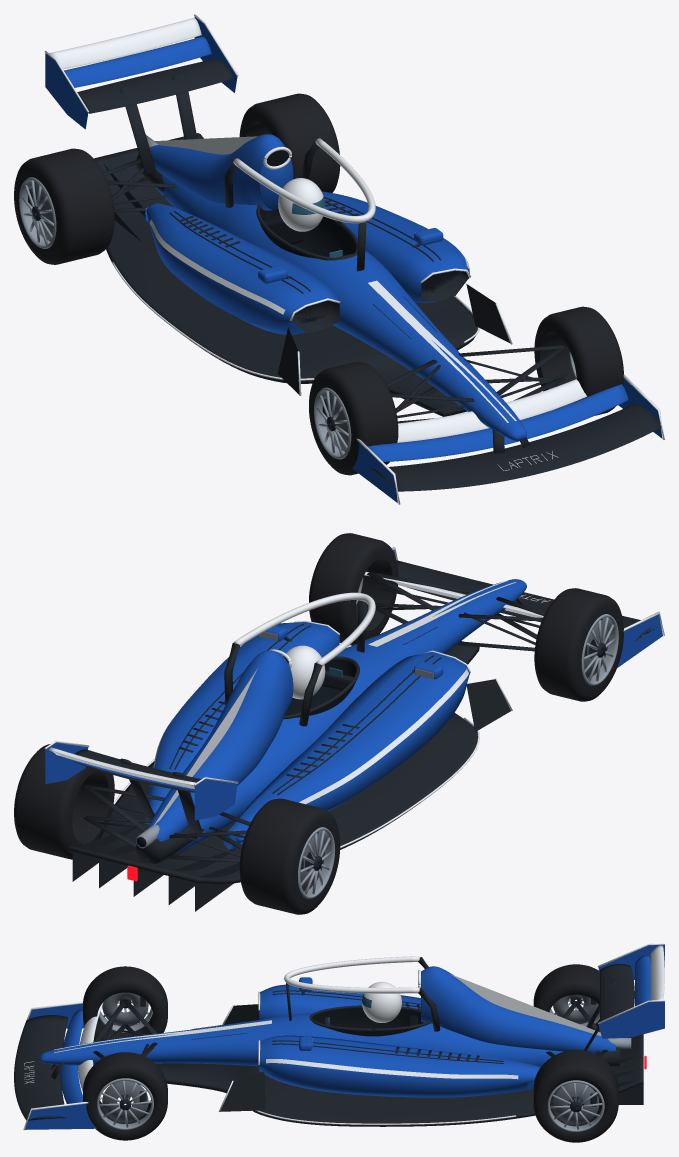
File: formula26.glb
3 renders of one model, top to bottom at view 1: azimuth 30°, elevation 25°; view 2: azimuth 150°, elevation 25°; view 3: azimuth 270°, elevation 25°, orthographic. The views are drawn at different scales.
Parts seen in each view (by area): view 1: FORMULA26_ROOT_F26_Paint_LOD0, FORMULA26_ROOT_F26_Carbon_LOD0, FORMULA26_ROOT_F26_Ice_LOD0, SPIN_RR_F26_Rubber_LOD0, SPIN_FL_F26_Rubber_LOD0, SPIN_FR_F26_Rubber_LOD0, SPIN_RL_F26_Rubber_LOD0, FORMULA26_ROOT_F26_Interior_LOD0, SPIN_FR_F26_Alloy_LOD0, SPIN_RR_F26_Alloy_LOD0; view 2: FORMULA26_ROOT_F26_Paint_LOD0, FORMULA26_ROOT_F26_Carbon_LOD0, FORMULA26_ROOT_F26_Ice_LOD0, SPIN_RR_F26_Rubber_LOD0, SPIN_RL_F26_Rubber_LOD0, SPIN_FR_F26_Rubber_LOD0, SPIN_FL_F26_Rubber_LOD0, SPIN_FR_F26_Alloy_LOD0, SPIN_RR_F26_Alloy_LOD0, FORMULA26_ROOT_F26_Interior_LOD0; view 3: FORMULA26_ROOT_F26_Paint_LOD0, FORMULA26_ROOT_F26_Carbon_LOD0, FORMULA26_ROOT_F26_Ice_LOD0, SPIN_RL_F26_Rubber_LOD0, SPIN_FL_F26_Rubber_LOD0, SPIN_FR_F26_Rubber_LOD0, SPIN_RR_F26_Rubber_LOD0, FORMULA26_ROOT_F26_Interior_LOD0, SPIN_FL_F26_Alloy_LOD0, SPIN_RL_F26_Alloy_LOD0, WHEEL_FL_F26_Rotor_LOD0, WHEEL_RL_F26_Rotor_LOD0 (+5 smaller).
Boxes of the visible parts, <box> form: FORMULA26_ROOT_F26_Paint_LOD0: <box>45,16,662,502</box>; FORMULA26_ROOT_F26_Carbon_LOD0: <box>77,58,661,491</box>; FORMULA26_ROOT_F26_Ice_LOD0: <box>44,14,664,504</box>; SPIN_RR_F26_Rubber_LOD0: <box>14,148,114,264</box>; SPIN_FL_F26_Rubber_LOD0: <box>534,306,623,415</box>; SPIN_FR_F26_Rubber_LOD0: <box>309,361,398,475</box>; SPIN_RL_F26_Rubber_LOD0: <box>239,93,340,192</box>; FORMULA26_ROOT_F26_Interior_LOD0: <box>260,150,458,323</box>; SPIN_FR_F26_Alloy_LOD0: <box>314,387,351,459</box>; SPIN_RR_F26_Alloy_LOD0: <box>19,177,56,248</box>; FORMULA26_ROOT_F26_Paint_LOD0: <box>45,550,662,855</box>; FORMULA26_ROOT_F26_Carbon_LOD0: <box>67,560,660,911</box>; FORMULA26_ROOT_F26_Ice_LOD0: <box>44,547,664,847</box>; SPIN_RR_F26_Rubber_LOD0: <box>239,798,339,914</box>; SPIN_RL_F26_Rubber_LOD0: <box>14,744,114,859</box>; SPIN_FR_F26_Rubber_LOD0: <box>534,588,623,701</box>; SPIN_FL_F26_Rubber_LOD0: <box>309,533,398,645</box>; SPIN_FR_F26_Alloy_LOD0: <box>581,614,618,685</box>; SPIN_RR_F26_Alloy_LOD0: <box>298,827,334,898</box>; FORMULA26_ROOT_F26_Interior_LOD0: <box>136,656,355,847</box>; FORMULA26_ROOT_F26_Paint_LOD0: <box>25,944,664,1129</box>; FORMULA26_ROOT_F26_Carbon_LOD0: <box>14,957,643,1126</box>; FORMULA26_ROOT_F26_Ice_LOD0: <box>23,943,664,1130</box>; SPIN_RL_F26_Rubber_LOD0: <box>533,1050,618,1142</box>; SPIN_FL_F26_Rubber_LOD0: <box>83,1052,167,1140</box>; SPIN_FR_F26_Rubber_LOD0: <box>83,966,167,1041</box>; SPIN_RR_F26_Rubber_LOD0: <box>533,964,599,1029</box>; FORMULA26_ROOT_F26_Interior_LOD0: <box>312,1008,632,1047</box>; SPIN_FL_F26_Alloy_LOD0: <box>97,1078,153,1129</box>; SPIN_RL_F26_Alloy_LOD0: <box>547,1080,604,1131</box>; WHEEL_FL_F26_Rotor_LOD0: <box>102,1080,148,1122</box>; WHEEL_RL_F26_Rotor_LOD0: <box>553,1082,599,1124</box>.
Bounding box in the file's own units: 2.03 × 1.1 × 5.2.
